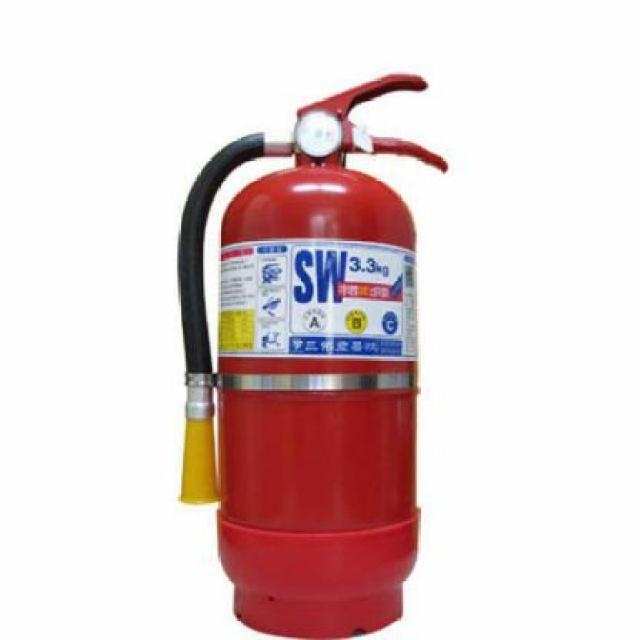fire extinguisher: (177, 72, 449, 640)
